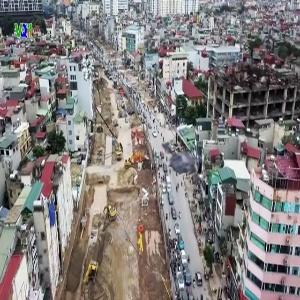drone: (147, 120, 230, 203)
